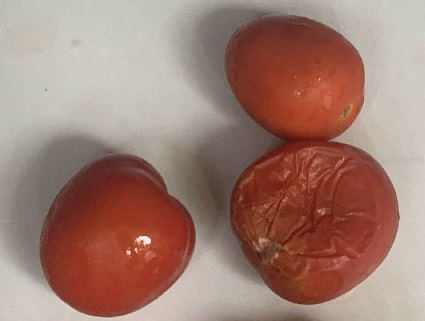NG: (226, 138, 404, 312)
OK: (29, 147, 203, 320), (219, 10, 372, 139)
